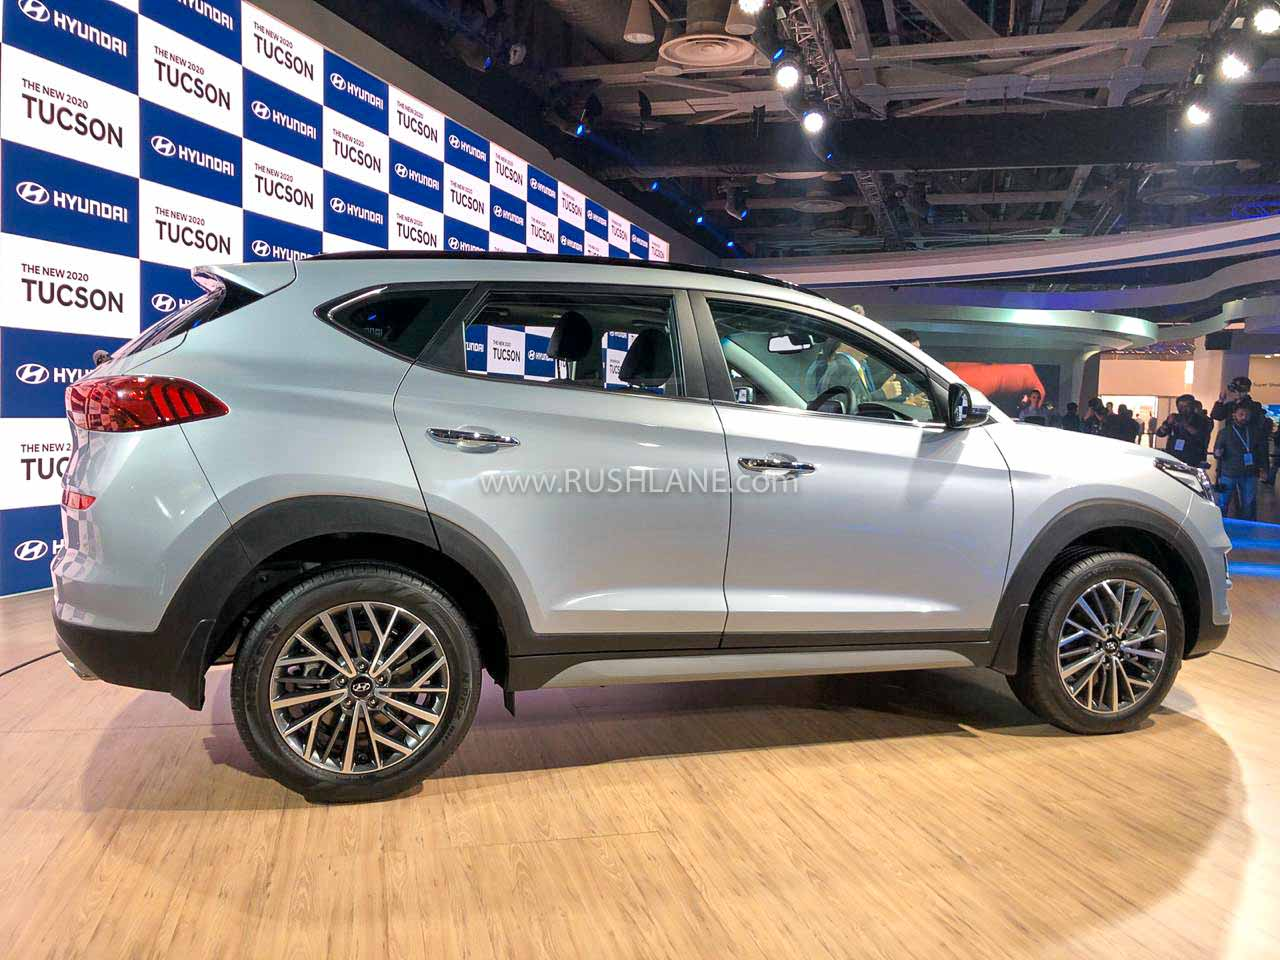car: (40, 238, 1241, 804)
